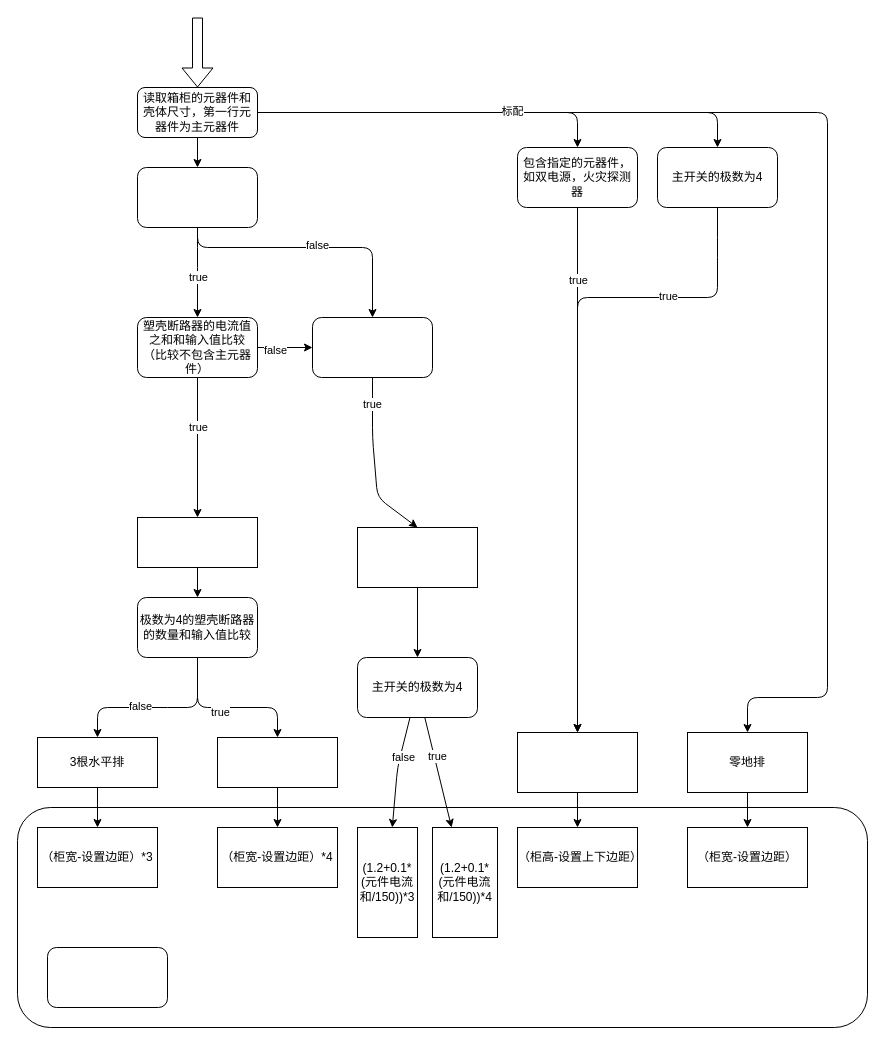
The diagram is 885 pixels wide and 1045 high, and some of its shapes have lost their labels. Here are the shapes that lost their labels. From the top down, the centre of each, then its label:
At point (197, 197): "塑壳断路器的数量和输入值比较（比较不包含 主元器件 ）".
At point (372, 347): "电流值之和和输入值比较 （比较不包含主元器件）且主元件电流大于设定值".
At point (197, 542): "有水平排".
At point (417, 557): "有垂直母排".
At point (277, 762): "4根水平排".
At point (577, 762): "垂直N排".
At point (107, 977): "出线电流>设置值的塑壳断路器个数量*1m".
